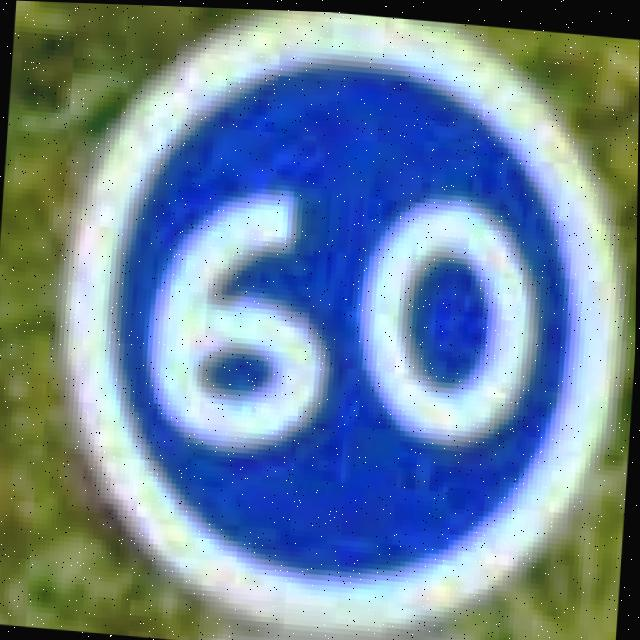min60: (33, 1, 640, 640)
